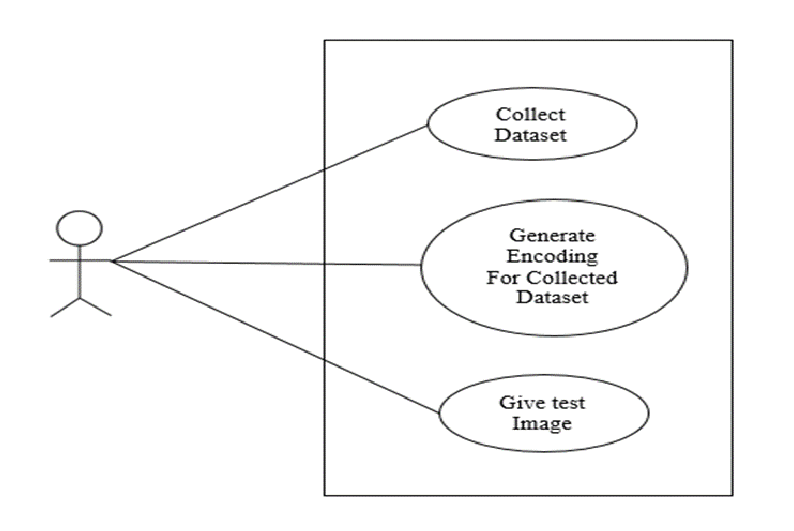actor: (41, 207, 117, 321)
association: (114, 260, 440, 414), (116, 123, 427, 259), (117, 255, 418, 272)
text: (482, 222, 621, 311), (490, 388, 595, 436), (492, 104, 577, 149)
use_case: (417, 197, 690, 339), (436, 372, 651, 455), (426, 85, 640, 163)
